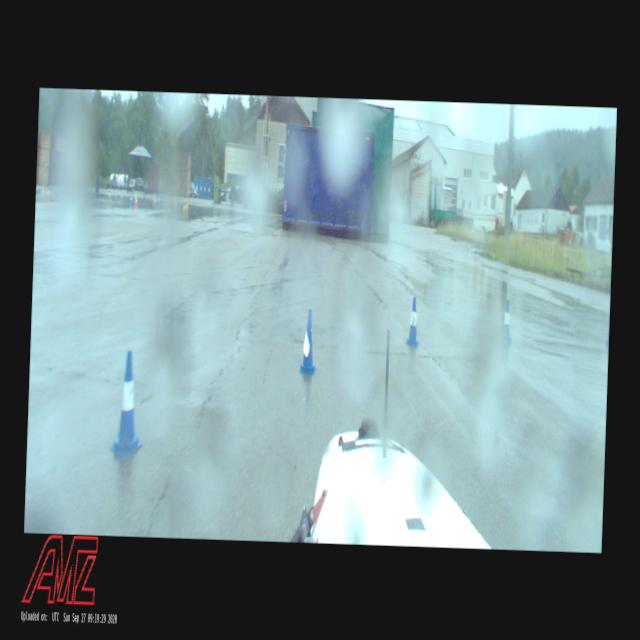blue_cone: (110, 352, 144, 454), (299, 307, 318, 374), (405, 296, 420, 346), (500, 300, 512, 344)
orange_cone: (46, 187, 50, 200), (134, 195, 137, 208)
